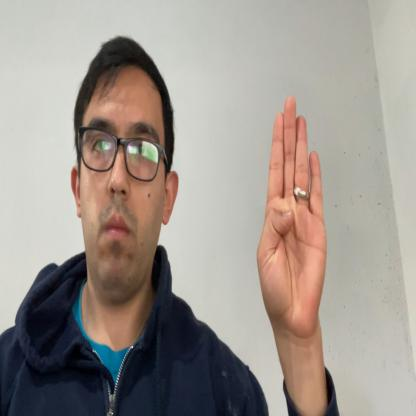B: (256, 94, 328, 337)
